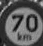Speed limit: (3, 4, 39, 41)
